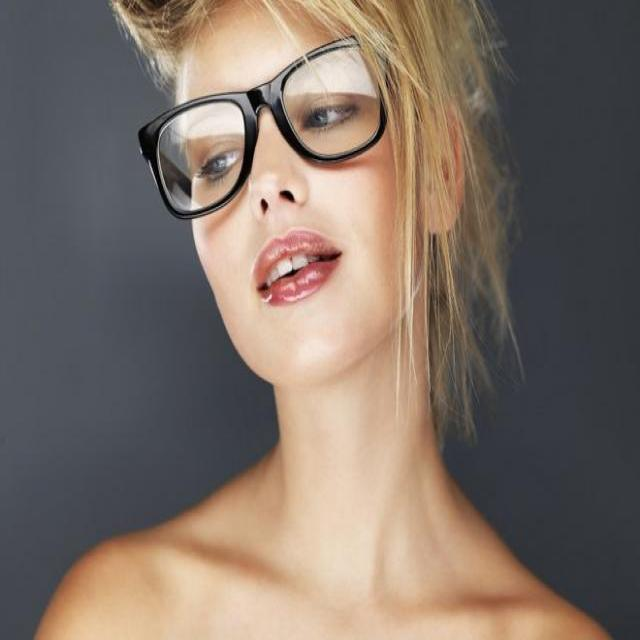glasses: (137, 26, 387, 220)
